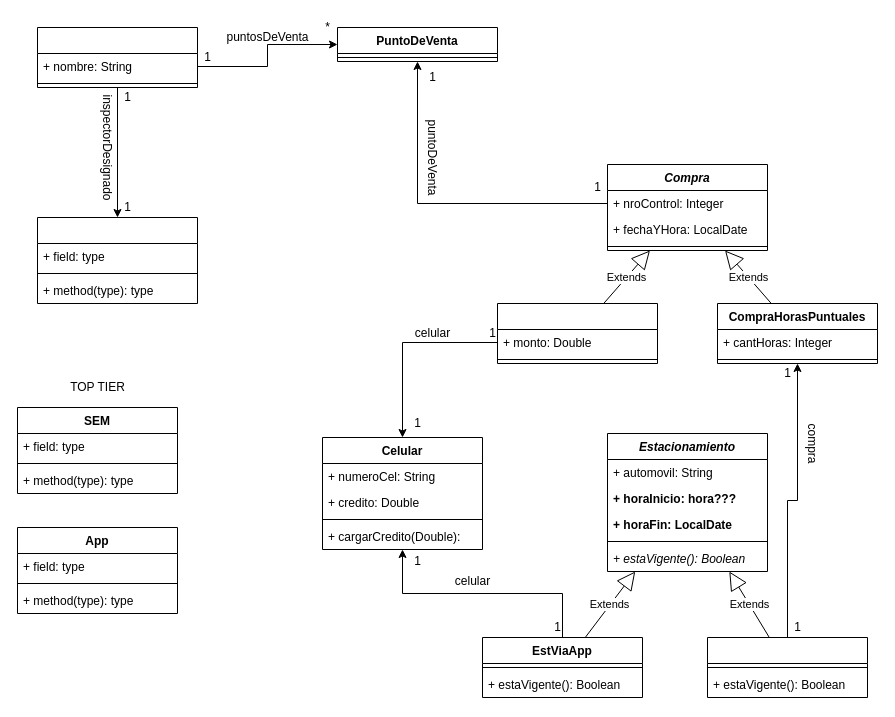
Some shapes in this 895 by 717 pixel diagram are drawn without their labels. Each missing label, with the box of its shape:
EstCompraPuntual: (706, 636, 868, 698)
Inspector: (36, 216, 198, 304)
RecargaCelular: (496, 302, 658, 364)
ZonaEstacionamiento: (36, 26, 198, 88)
